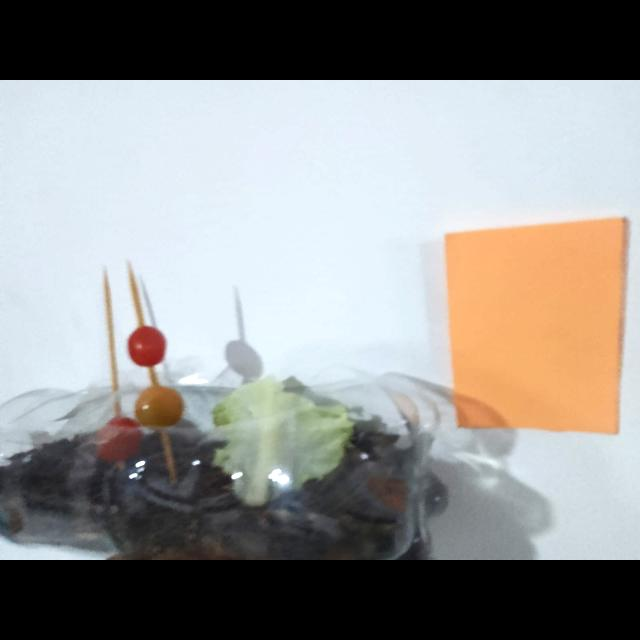card: (445, 218, 626, 433)
fruit_maturation: (96, 417, 143, 463), (135, 385, 183, 428)
fully_grown: (128, 326, 166, 368)
